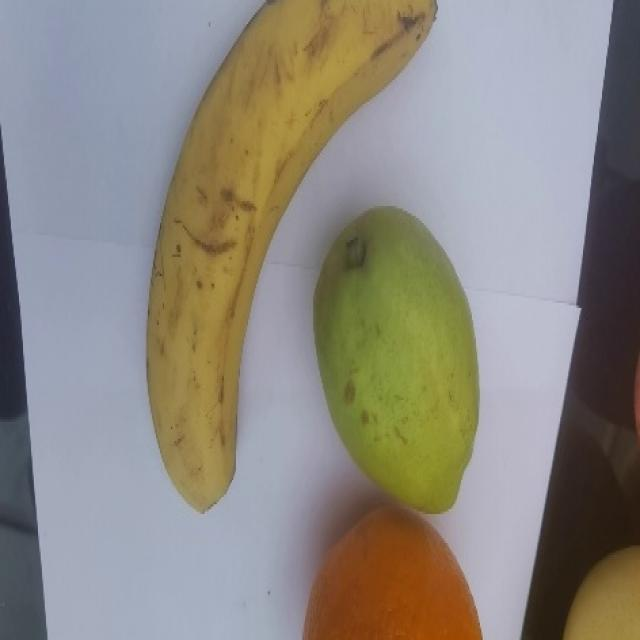Banana: (145, 0, 438, 514)
Orange: (302, 503, 482, 639)
